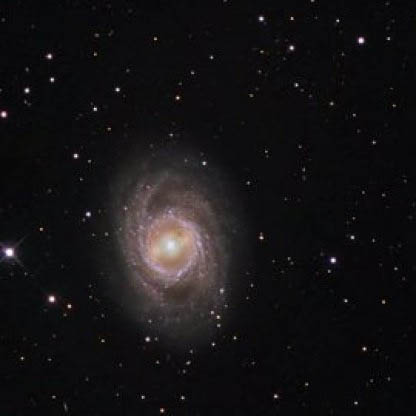Messier 95: (97, 142, 241, 351)
